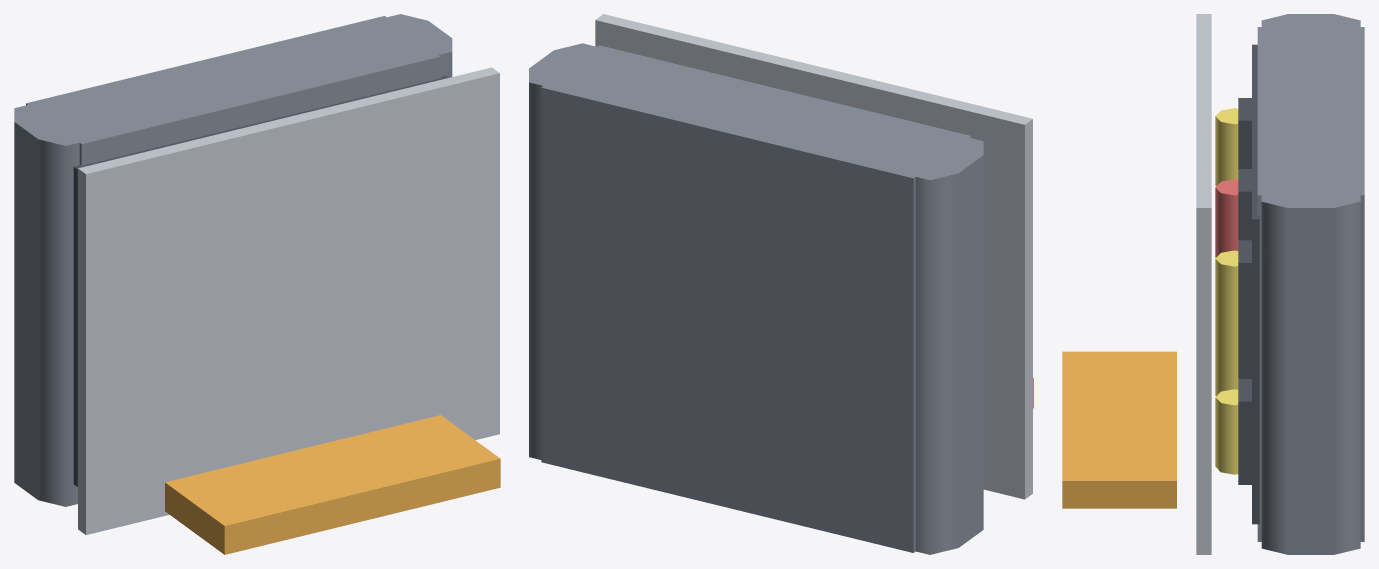
Rendered from prop_fuse_box.glb.
3 renders of one model, left to right at view 1: azimuth 30°, elevation 25°; view 2: azimuth 150°, elevation 25°; view 3: azimuth 270°, elevation 25°, orthographic. The views are drawn at different scales.
Visible parts, largest first — view 1: box_door, prop_fuse_box, spare_tray; view 2: prop_fuse_box, box_door; view 3: prop_fuse_box, spare_tray, box_door, fuse_3, fuse_6, fuse_4, fuse_5, fuse_slot_6, fuse_slot_3, fuse_2, fuse_slot_5, fuse_slot_4 (+1 smaller).
Boxes of the visible parts, <box> form: box_door: <box>78,67,499,534</box>; prop_fuse_box: <box>14,14,452,506</box>; spare_tray: <box>165,415,500,554</box>; prop_fuse_box: <box>529,43,983,554</box>; box_door: <box>595,14,1032,499</box>; prop_fuse_box: <box>1252,14,1364,554</box>; spare_tray: <box>1062,351,1176,508</box>; box_door: <box>1196,14,1211,554</box>; fuse_3: <box>1215,389,1238,474</box>; fuse_6: <box>1215,250,1238,335</box>; fuse_4: <box>1215,108,1238,186</box>; fuse_5: <box>1215,179,1238,257</box>; fuse_slot_6: <box>1238,240,1251,346</box>; fuse_slot_3: <box>1238,379,1251,484</box>; fuse_2: <box>1215,328,1238,396</box>; fuse_slot_5: <box>1238,169,1251,240</box>; fuse_slot_4: <box>1238,98,1251,168</box>.
Size of the model in its own units: 0.6 by 0.5 by 0.395.
